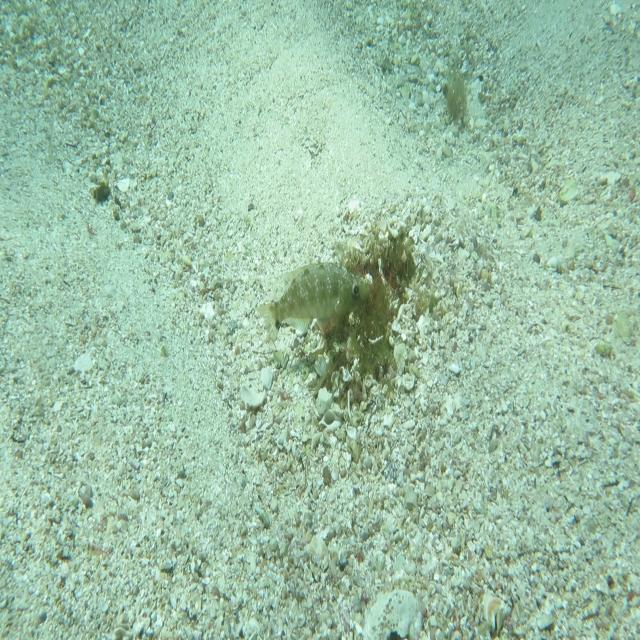MAN: (256, 258, 372, 344)
nest: (303, 220, 422, 411)
vegetation: (445, 65, 470, 125), (92, 181, 112, 204)
